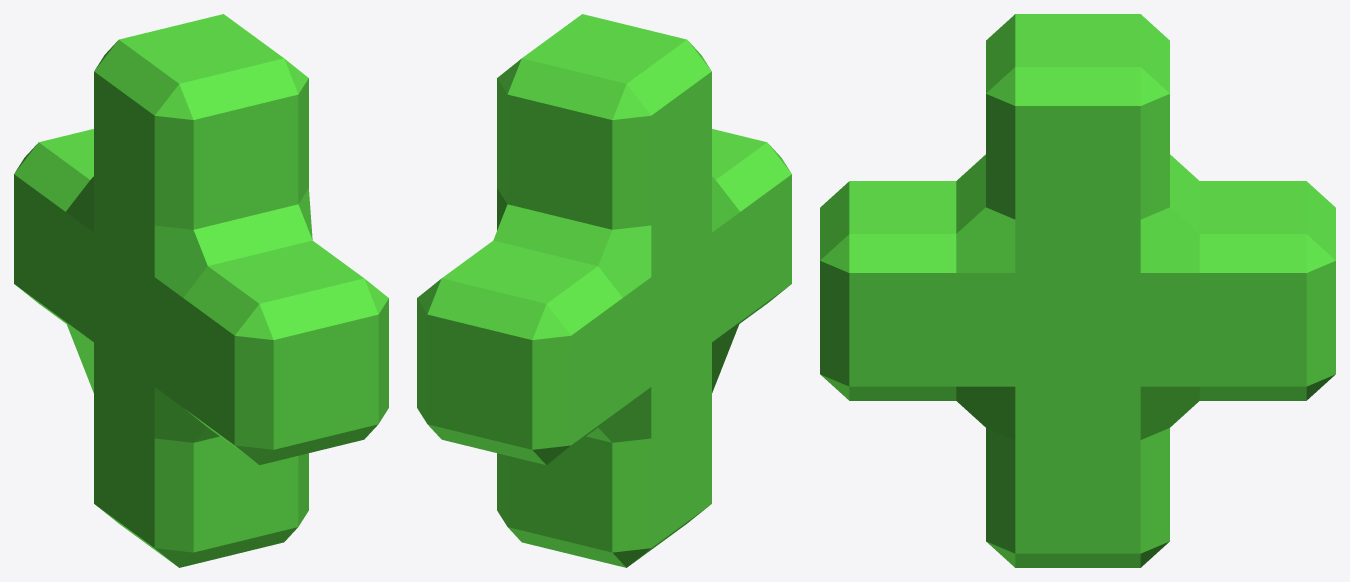
File: Health.fbx
The picture shows the model from 3 angles, left to right: view 1: azimuth 30°, elevation 25°; view 2: azimuth 150°, elevation 25°; view 3: azimuth 270°, elevation 25°; orthographic projection. The views are drawn at different scales.
Parts seen in each view (by area): view 1: Health; view 2: Health; view 3: Health.
Part boxes in pixels (x1,y1,x2,y2): Health: (14, 14, 388, 567); Health: (417, 14, 791, 567); Health: (820, 14, 1335, 567).
Size of the model in its own units: 0.25 by 0.75 by 0.7.
